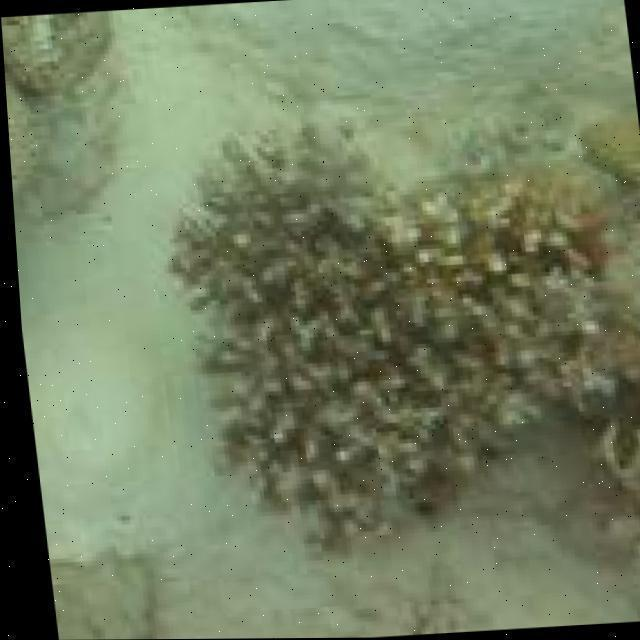Dead Coral: (153, 99, 640, 588)
